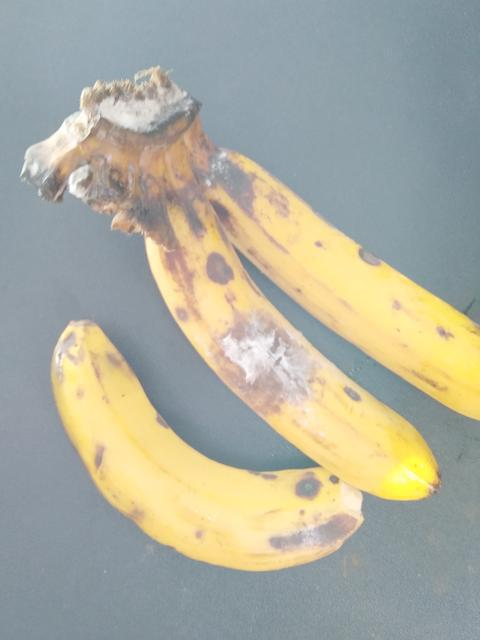overripe: (147, 185, 439, 529), (57, 318, 340, 639), (192, 138, 479, 410)
rotten: (169, 249, 338, 442)
